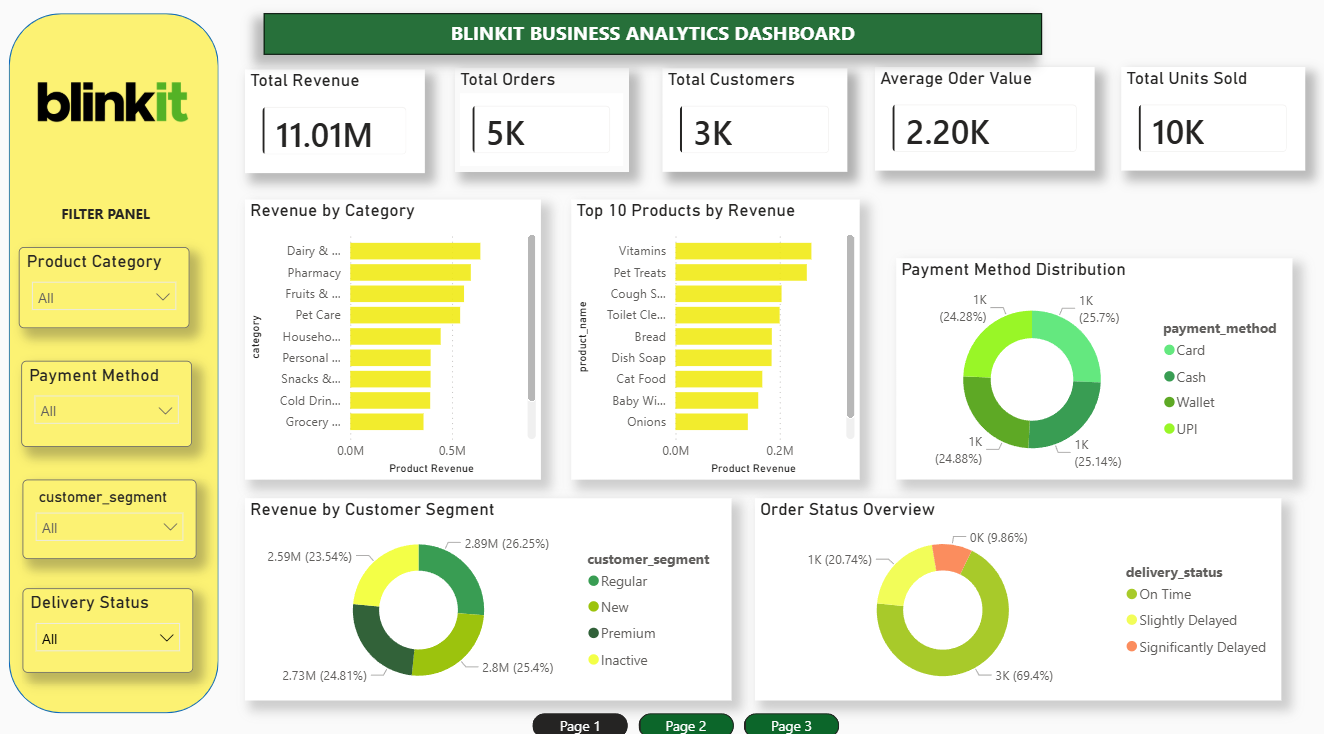

The page's visual inventory and layout, read from the dashboard file:
{"tool":"powerbi","page":{"name":"Page 1","canvas":[1280,720],"ordinal":0},"visuals":[{"type":"shape","box":[8.4,20.5,202.7,675.6],"z":0},{"type":"image","box":[33.8,60.3,150.8,97.7],"z":1000},{"type":"cardVisual","fields":{"Data":["blinkit_orders.Total Revenue"]},"box":[236.5,74.8,173.7,100.1],"z":2000},{"type":"cardVisual","fields":{"Data":["blinkit_orders.Total Orders"]},"box":[439.1,73.6,167.7,100.1],"z":3000},{"type":"cardVisual","fields":{"Data":["blinkit_customers.Total Customers"]},"box":[639.4,73.6,178.6,100.1],"z":4000},{"type":"cardVisual","fields":{"Data":["blinkit_orders.Average Order Value"]},"box":[844.5,72.4,212.3,100.1],"z":5000},{"type":"cardVisual","fields":{"Data":["blinkit_products.Total Units Sold"]},"box":[1082.2,72.4,177.3,100.1],"z":6000},{"type":"clusteredBarChart","title":"Revenue by Category","fields":{"Y":["blinkit_products.Product Revenue"],"Category":["blinkit_products.category"]},"box":[236.5,200.3,285.9,270.2],"z":7000},{"type":"clusteredBarChart","title":"Top 10 Products by Revenue","fields":{"Category":["blinkit_products.product_name"],"Y":["blinkit_products.Product Revenue"]},"box":[551.3,200.3,278.7,270.2],"z":8000},{"type":"donutChart","title":"Revenue by Customer Segment","fields":{"Category":["blinkit_customers.customer_segment"],"Y":["blinkit_orders.Total Revenue"]},"box":[236.5,488.6,469.3,195.4],"z":9000},{"type":"donutChart","title":"Payment Method Distribution","fields":{"Category":["blinkit_orders.payment_method"],"Y":["blinkit_orders.Total Orders"]},"box":[865,257,382.4,213.5],"z":10000},{"type":"donutChart","title":"Order Status Overview","fields":{"Category":["blinkit_delivery_performance.delivery_status"],"Y":["blinkit_orders.Total Orders"]},"box":[728.7,488.6,507.9,195.4],"z":11000},{"type":"slicer","fields":{"Values":["blinkit_customers.customer_segment"]},"box":[21.6,470.7,168.1,76.8],"z":12000},{"type":"textbox","box":[254.3,20,751.4,40],"z":13000},{"type":"slicer","title":"Product Category","fields":{"Values":["blinkit_products.category"]},"box":[18,246.2,164.5,78],"z":14000},{"type":"slicer","title":"Payment Method","fields":{"Values":["blinkit_orders.payment_method"]},"box":[20.4,355.4,164.5,82.9],"z":15000},{"type":"slicer","title":"Delivery Status","fields":{"Values":["blinkit_orders.delivery_status"]},"box":[21.6,575.2,164.5,81.7],"z":16000},{"type":"textbox","box":[48.8,200,107.1,36.9],"z":17000},{"type":"pageNavigator","box":[513.9,696.1,298,24.1],"z":18000}]}

Visuals, with their boxes in screenshot pixels (x1, y1, x2, y2), scaled from the page's 1280x720 canvas onto the 1324x734 screenshot:
shape: Rect(9, 21, 218, 710)
image: Rect(35, 61, 191, 161)
cardVisual - blinkit_orders.Total Revenue: Rect(245, 76, 424, 178)
cardVisual - blinkit_orders.Total Orders: Rect(454, 75, 628, 177)
cardVisual - blinkit_customers.Total Customers: Rect(661, 75, 846, 177)
cardVisual - blinkit_orders.Average Order Value: Rect(874, 74, 1093, 176)
cardVisual - blinkit_products.Total Units Sold: Rect(1119, 74, 1303, 176)
"Revenue by Category" clusteredBarChart: Rect(245, 204, 540, 480)
"Top 10 Products by Revenue" clusteredBarChart: Rect(570, 204, 859, 480)
"Revenue by Customer Segment" donutChart: Rect(245, 498, 730, 697)
"Payment Method Distribution" donutChart: Rect(895, 262, 1290, 480)
"Order Status Overview" donutChart: Rect(754, 498, 1279, 697)
slicer - blinkit_customers.customer_segment: Rect(22, 480, 196, 558)
textbox: Rect(263, 20, 1040, 61)
"Product Category" slicer: Rect(19, 251, 189, 331)
"Payment Method" slicer: Rect(21, 362, 191, 447)
"Delivery Status" slicer: Rect(22, 586, 192, 670)
textbox: Rect(50, 204, 161, 242)
pageNavigator: Rect(532, 710, 840, 733)
